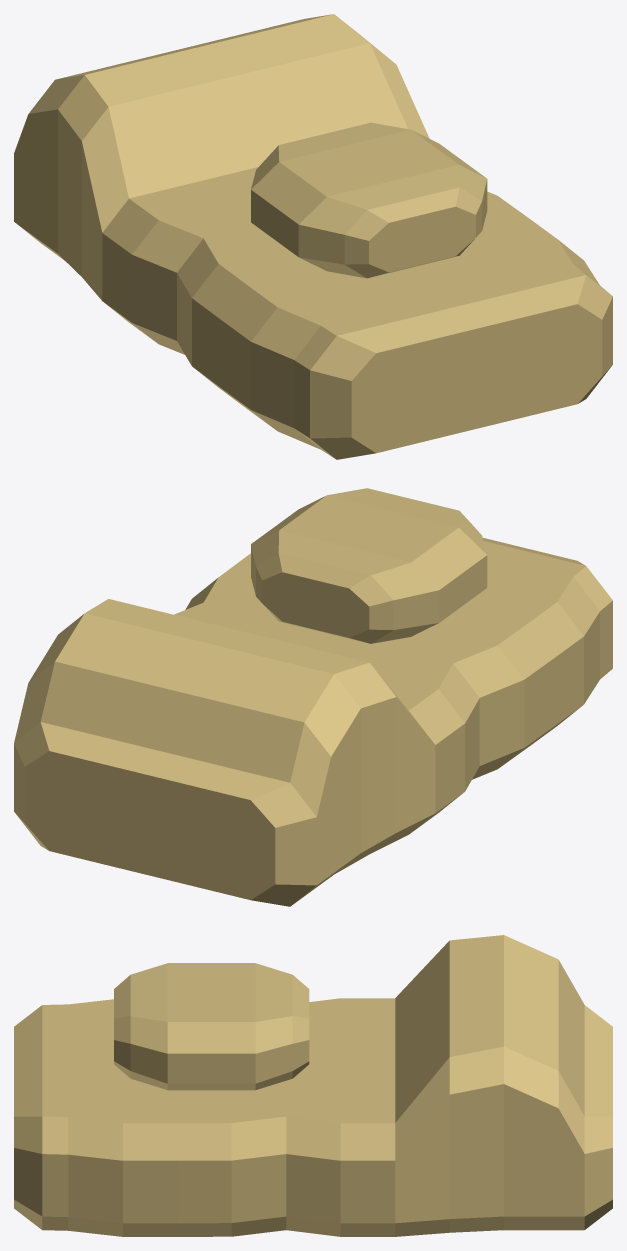
File: tallow_light_b.glb
The picture shows the model from 3 angles, top to bottom: view 1: azimuth 30°, elevation 25°; view 2: azimuth 150°, elevation 25°; view 3: azimuth 270°, elevation 25°; orthographic projection. The views are drawn at different scales.
Visible parts, largest first — view 1: tallow_light_b; view 2: tallow_light_b; view 3: tallow_light_b.
Boxes of the visible parts, x1,y1,x2,y2 form: tallow_light_b: [14, 14, 612, 459]; tallow_light_b: [14, 488, 612, 906]; tallow_light_b: [14, 935, 612, 1236].
Bounding box in the file's own units: 3 × 1.73 × 5.1.
